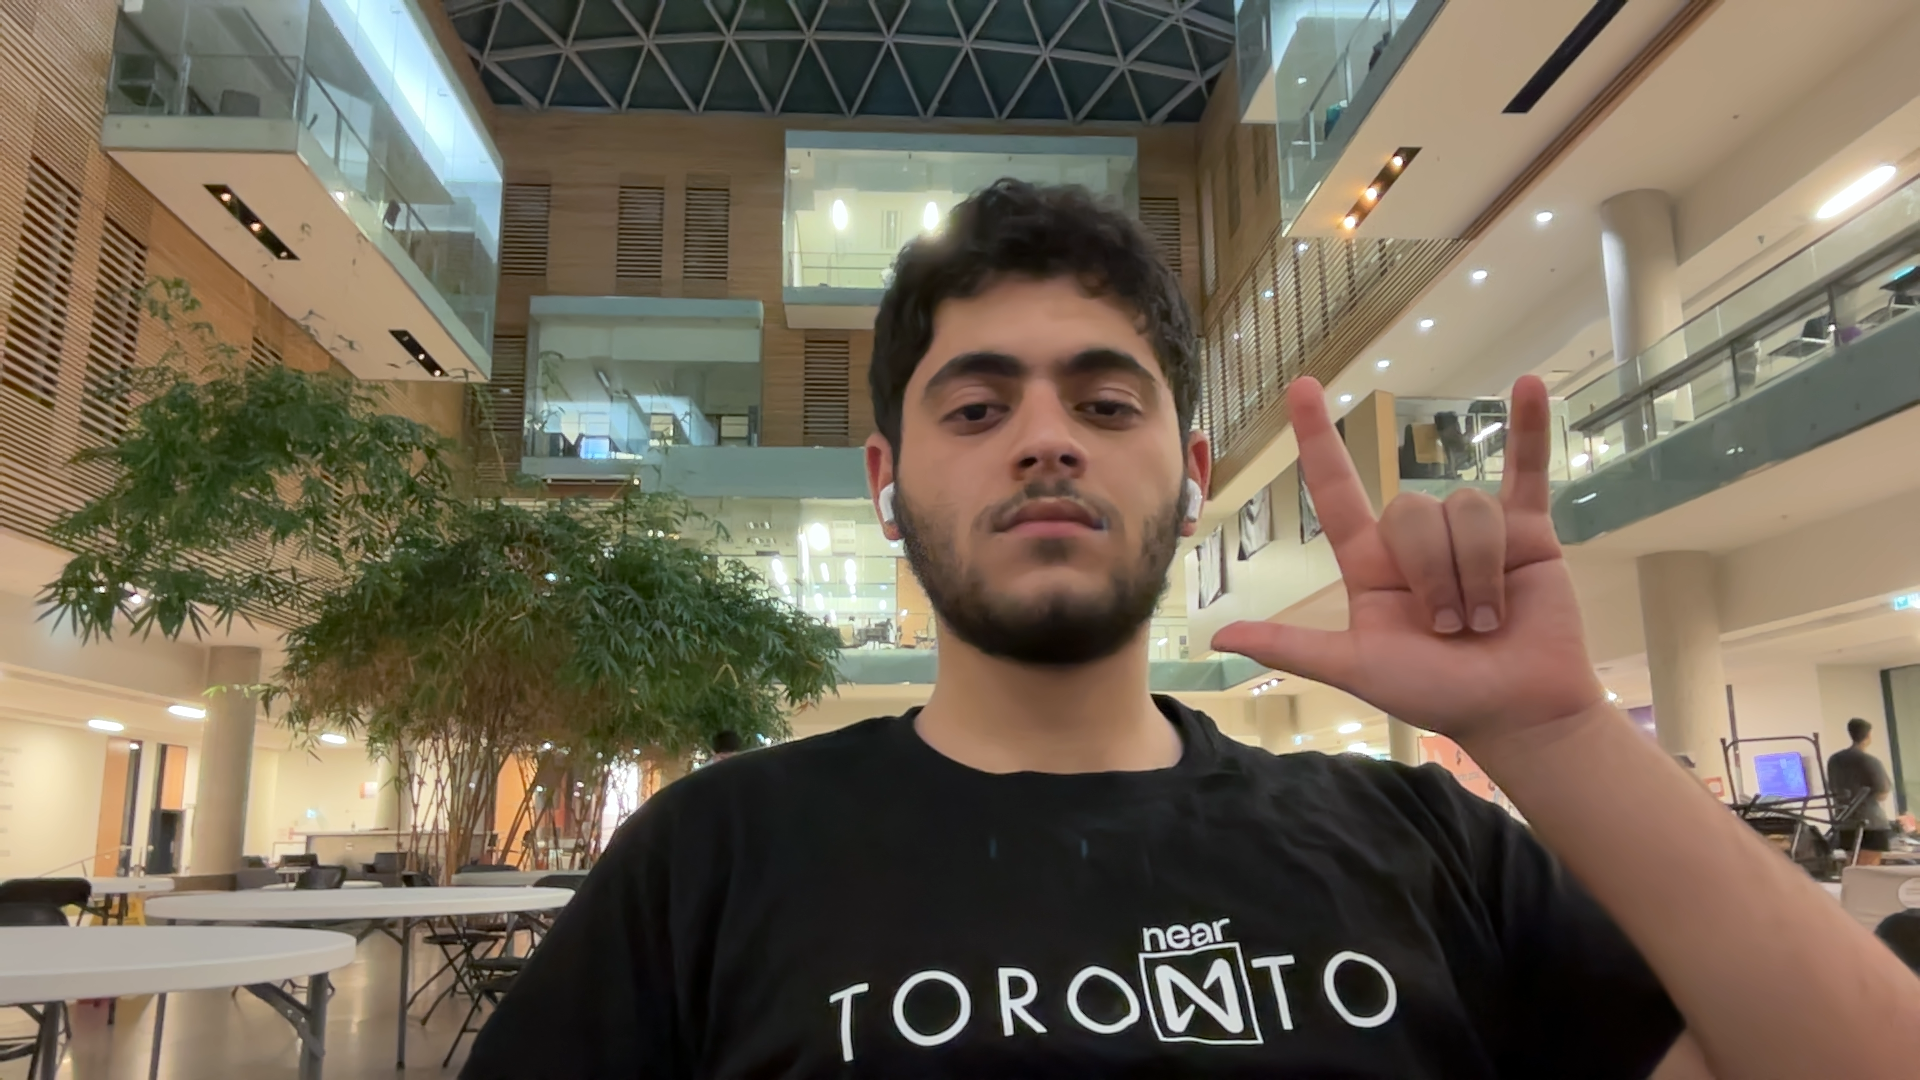i love you: (1200, 338, 1712, 692)
